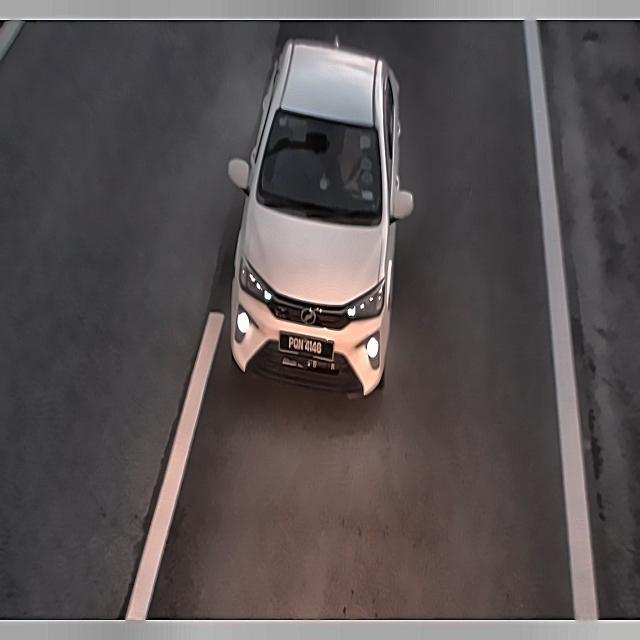car: (277, 320, 345, 377)
